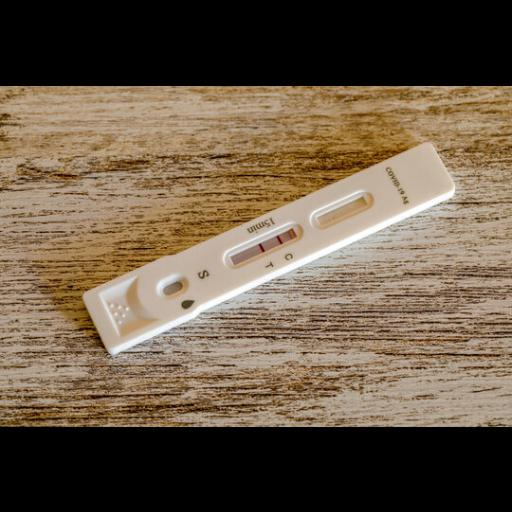Pos: (83, 138, 459, 350)
